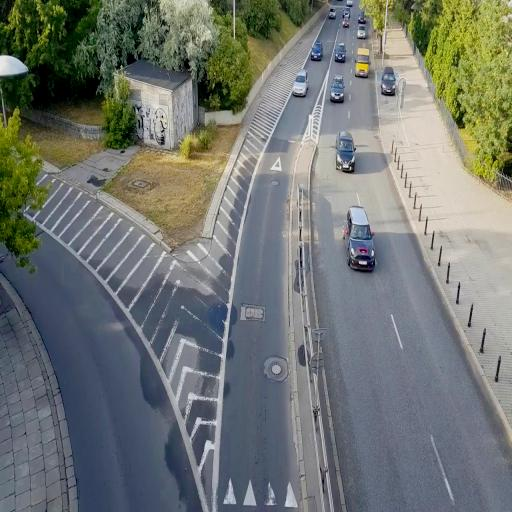vehicle: (346, 220, 376, 271), (336, 130, 356, 172), (380, 68, 398, 96), (330, 76, 344, 102), (294, 71, 308, 96), (310, 40, 324, 62), (334, 42, 346, 63)
